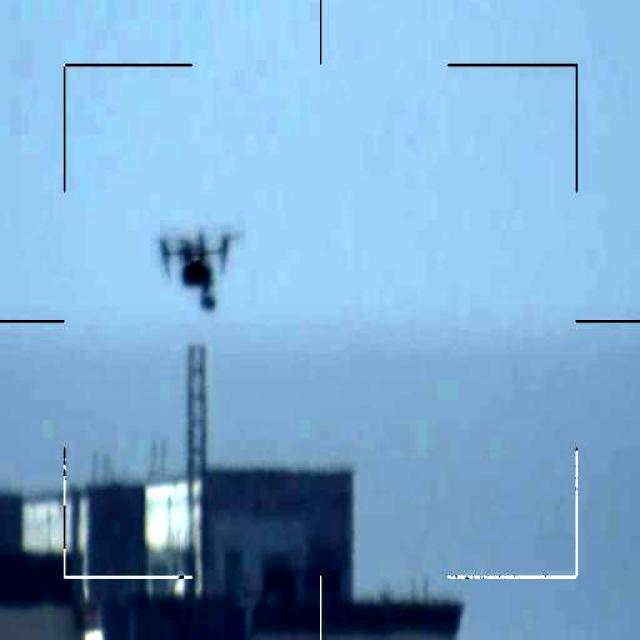bird: (155, 225, 234, 319)
